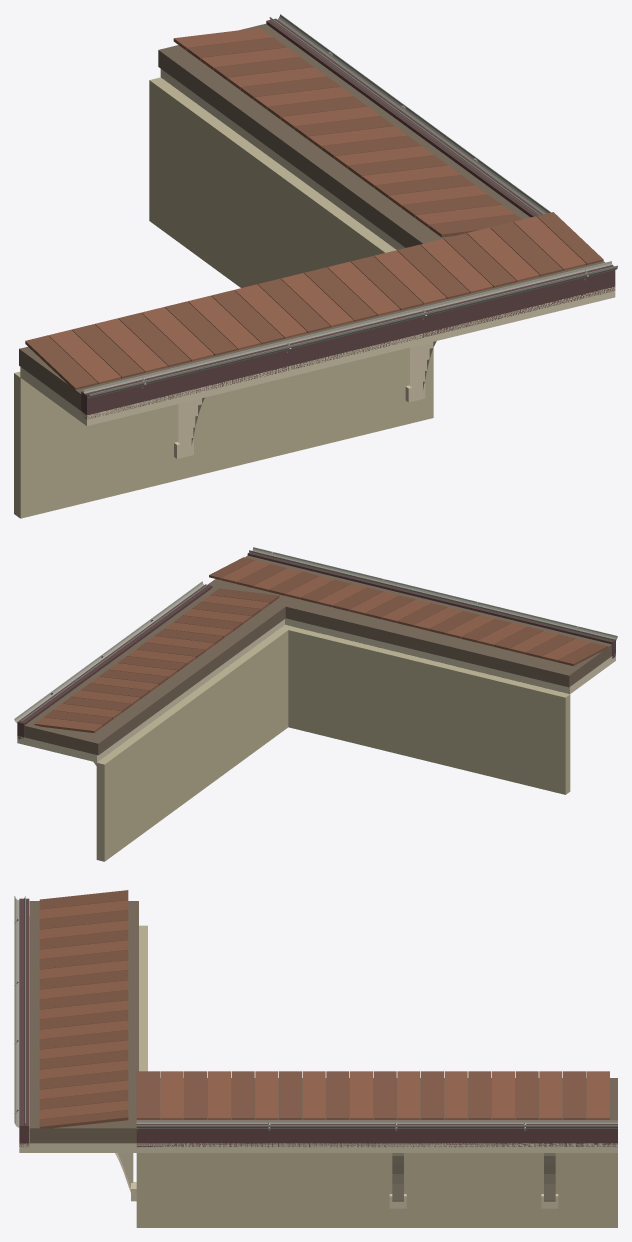
File: changning-wuyi-100-garden-eaves-brackets-lod.glb
3 views of the same model, one above another, from view 1: azimuth 30°, elevation 25°; view 2: azimuth 150°, elevation 25°; view 3: azimuth 270°, elevation 25° (orthographic). The views are drawn at different scales.
Parts seen in each view (by area): view 1: 武夷路100号花园住宅转角挑檐、曲线檐托与通气口; view 2: 武夷路100号花园住宅转角挑檐、曲线檐托与通气口; view 3: 武夷路100号花园住宅转角挑檐、曲线檐托与通气口.
Boxes of the visible parts, <box> form: 武夷路100号花园住宅转角挑檐、曲线檐托与通气口: <box>14,14,617,518</box>; 武夷路100号花园住宅转角挑檐、曲线檐托与通气口: <box>14,547,617,861</box>; 武夷路100号花园住宅转角挑檐、曲线檐托与通气口: <box>14,890,617,1227</box>.
Size of the model in its own units: 2.87 by 0.932 by 3.19.
